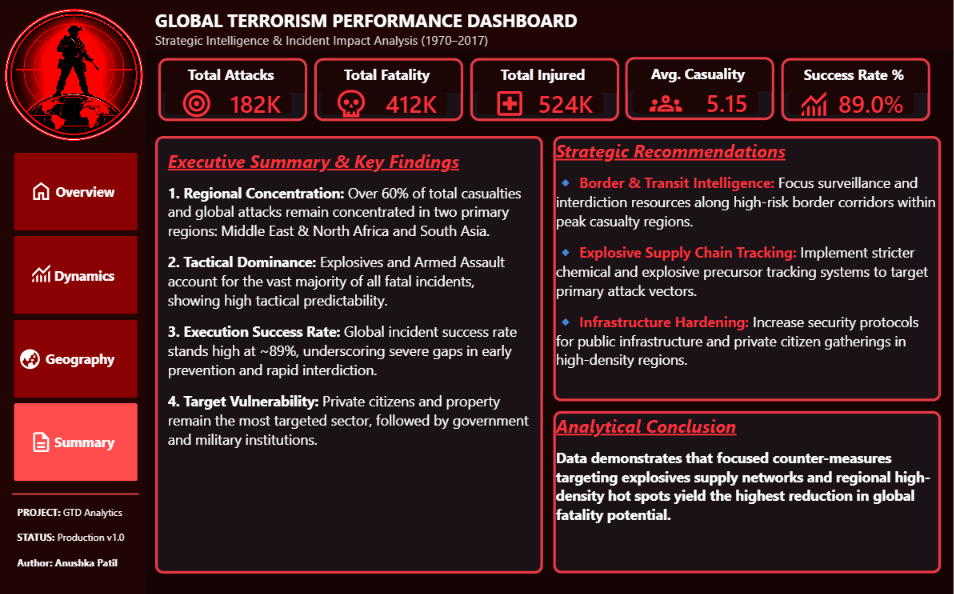

What the dashboard file says about the page in this screenshot:
{"tool":"powerbi","page":{"name":"Summary","canvas":[1440,900],"ordinal":3},"visuals":[{"type":"textbox","title":"Executive Summary & Key Findings","box":[235,205,585,660],"z":0},{"type":"textbox","title":"Strategic Recommendations","box":[835,205,585,400],"z":1000},{"type":"textbox","title":"Analytical Conclusion","box":[835,620,585,245],"z":2000},{"type":"shape","box":[0,0,220,900],"z":3000},{"type":"textbox","box":[26.7,761.7,178.3,103.3],"z":5000},{"type":"shape","box":[220,0,1220,75.4],"z":6000},{"type":"textbox","box":[235,11.7,1175,63.3],"z":7000},{"type":"cardVisual","title":"Total Attacks","fields":{"Data":["_Measures.Total Attacks"]},"box":[239.8,88,225,95],"z":9000,"group":"g1"},{"type":"cardVisual","title":"Total Fatality","fields":{"Data":["_Measures.Total Fatalities"]},"box":[474.8,88,225,95],"z":10000,"group":"g1"},{"type":"cardVisual","title":"Total Injured","fields":{"Data":["_Measures.Total Injured"]},"box":[709.8,88,225,95],"z":11000,"group":"g1"},{"type":"cardVisual","title":"Success Rate %","fields":{"Data":["_Measures.Success Rate %"]},"box":[1179.8,88,225,95],"z":12000,"group":"g1"},{"type":"group","id":"g1","title":"Group 1","box":[239.8,86,1164.2,98],"z":13000},{"type":"cardVisual","title":"Avg. Casuality","fields":{"Data":["_Measures.Avg Casualties per Attack"]},"box":[944.8,86,225,95],"z":13000,"group":"g1"},{"type":"image","box":[6,6,214.1,221.7],"z":13001},{"type":"pageNavigator","box":[19.6,227.7,191.5,500.7],"z":13002},{"type":"image","box":[45.2,265.4,36,45],"z":13003},{"type":"image","box":[45.2,389.1,36,45],"z":13004},{"type":"image","box":[28,519,36,45],"z":13005},{"type":"image","box":[45.7,643.6,36,45],"z":13006},{"type":"shape","box":[19.6,728.4,191.5,33.2],"z":13007},{"type":"image","box":[259.7,130.7,76.9,49.8],"z":19000,"group":"g1"},{"type":"image","box":[491.9,130.7,78.4,49.8],"z":20000,"group":"g1"},{"type":"image","box":[736.2,130.7,67.9,49.8],"z":21000,"group":"g1"},{"type":"image","box":[965.4,130.7,79.9,49.8],"z":22000,"group":"g1"},{"type":"image","box":[1199.2,130.7,58.8,49.8],"z":23000,"group":"g1"}]}

Visuals, with their boxes in screenshot pixels (x1, y1, x2, y2), scaled from the page's 1440x900 canvas onto the 954x594 screenshot:
"Executive Summary & Key Findings" textbox: (left=156, top=135, right=543, bottom=571)
"Strategic Recommendations" textbox: (left=553, top=135, right=941, bottom=399)
"Analytical Conclusion" textbox: (left=553, top=409, right=941, bottom=571)
shape: (left=0, top=0, right=146, bottom=593)
textbox: (left=18, top=503, right=136, bottom=571)
shape: (left=146, top=0, right=953, bottom=50)
textbox: (left=156, top=8, right=934, bottom=50)
"Total Attacks" cardVisual: (left=159, top=58, right=308, bottom=121)
"Total Fatality" cardVisual: (left=315, top=58, right=464, bottom=121)
"Total Injured" cardVisual: (left=470, top=58, right=619, bottom=121)
"Success Rate %" cardVisual: (left=782, top=58, right=931, bottom=121)
"Group 1" group: (left=159, top=57, right=930, bottom=121)
"Avg. Casuality" cardVisual: (left=626, top=57, right=775, bottom=119)
image: (left=4, top=4, right=146, bottom=150)
pageNavigator: (left=13, top=150, right=140, bottom=481)
image: (left=30, top=175, right=54, bottom=205)
image: (left=30, top=257, right=54, bottom=287)
image: (left=19, top=343, right=42, bottom=372)
image: (left=30, top=425, right=54, bottom=454)
shape: (left=13, top=481, right=140, bottom=503)
image: (left=172, top=86, right=223, bottom=119)
image: (left=326, top=86, right=378, bottom=119)
image: (left=488, top=86, right=533, bottom=119)
image: (left=640, top=86, right=693, bottom=119)
image: (left=794, top=86, right=833, bottom=119)
